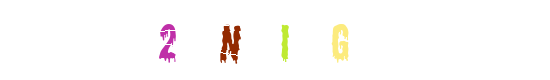2: (134, 0, 214, 80)
G: (275, 0, 355, 80)
I: (235, 0, 315, 80)
N: (190, 0, 270, 80)
